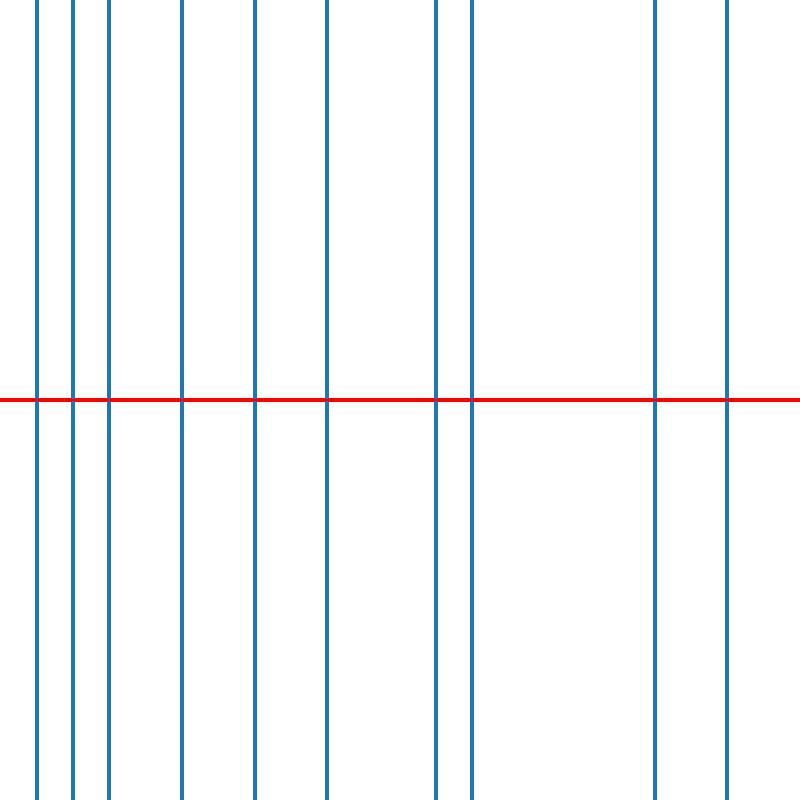root: (32, 396, 40, 404), (432, 396, 440, 404), (650, 396, 658, 404), (250, 396, 258, 404), (178, 396, 185, 404), (469, 396, 476, 404), (323, 396, 330, 404), (723, 396, 730, 404), (105, 396, 112, 404), (69, 396, 76, 404)
